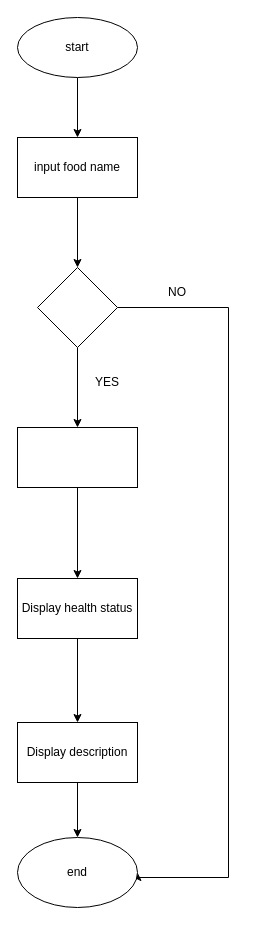
Some shapes in this 254 by 925 pixel diagram are drawn without their labels. Each missing label, with the box of its shape:
Display nutrition: (16, 426, 138, 488)
food in dataset: (36, 266, 118, 348)
